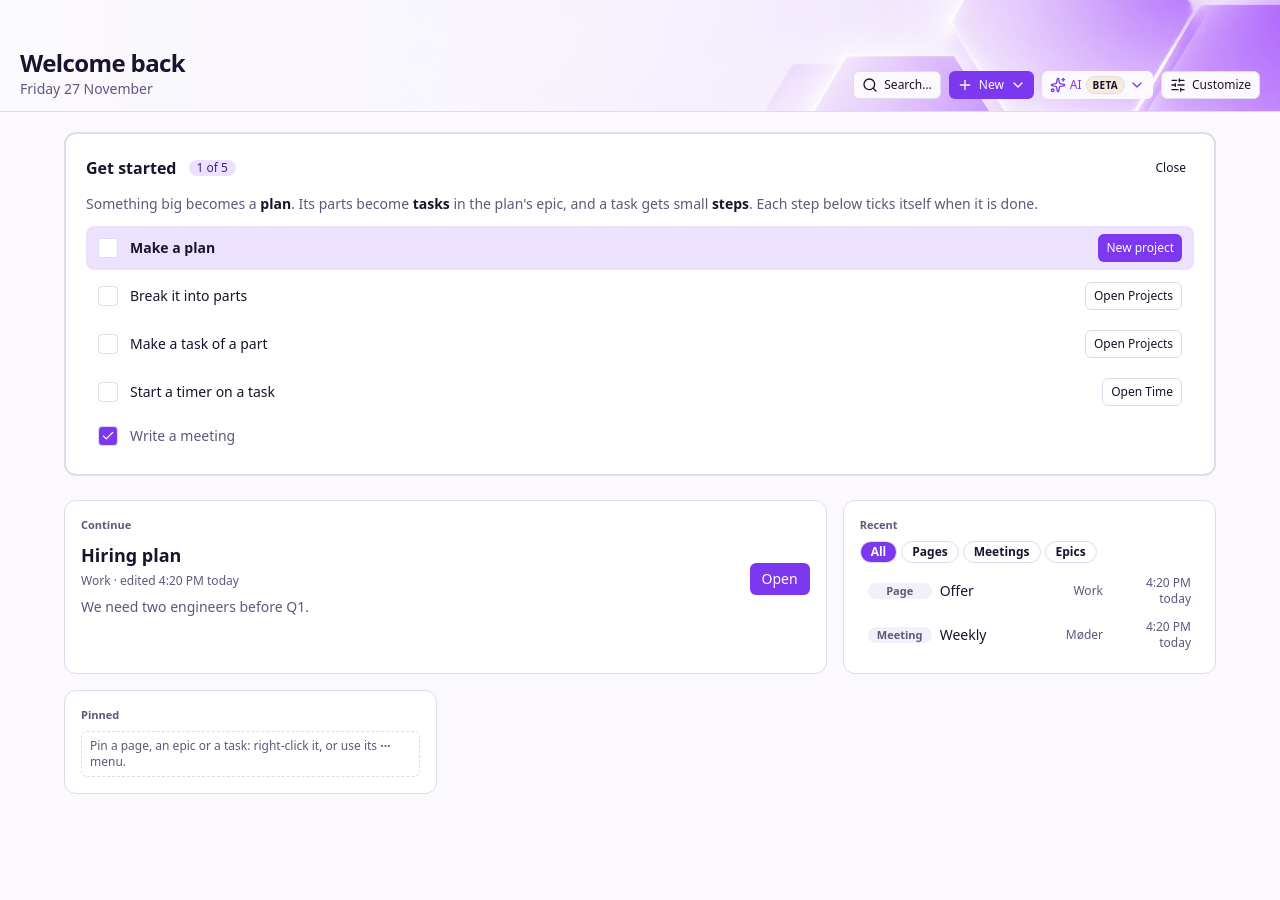
Test case: StartPage › filters the recent pages by what they are
This screenshot has width=1280, height=900.
Expected: the text "Meeting" is shown, x1=868 y1=627 x2=932 y2=643
Click the button "Meetings": (1002,552) x1=963 y1=541 x2=1040 y2=563
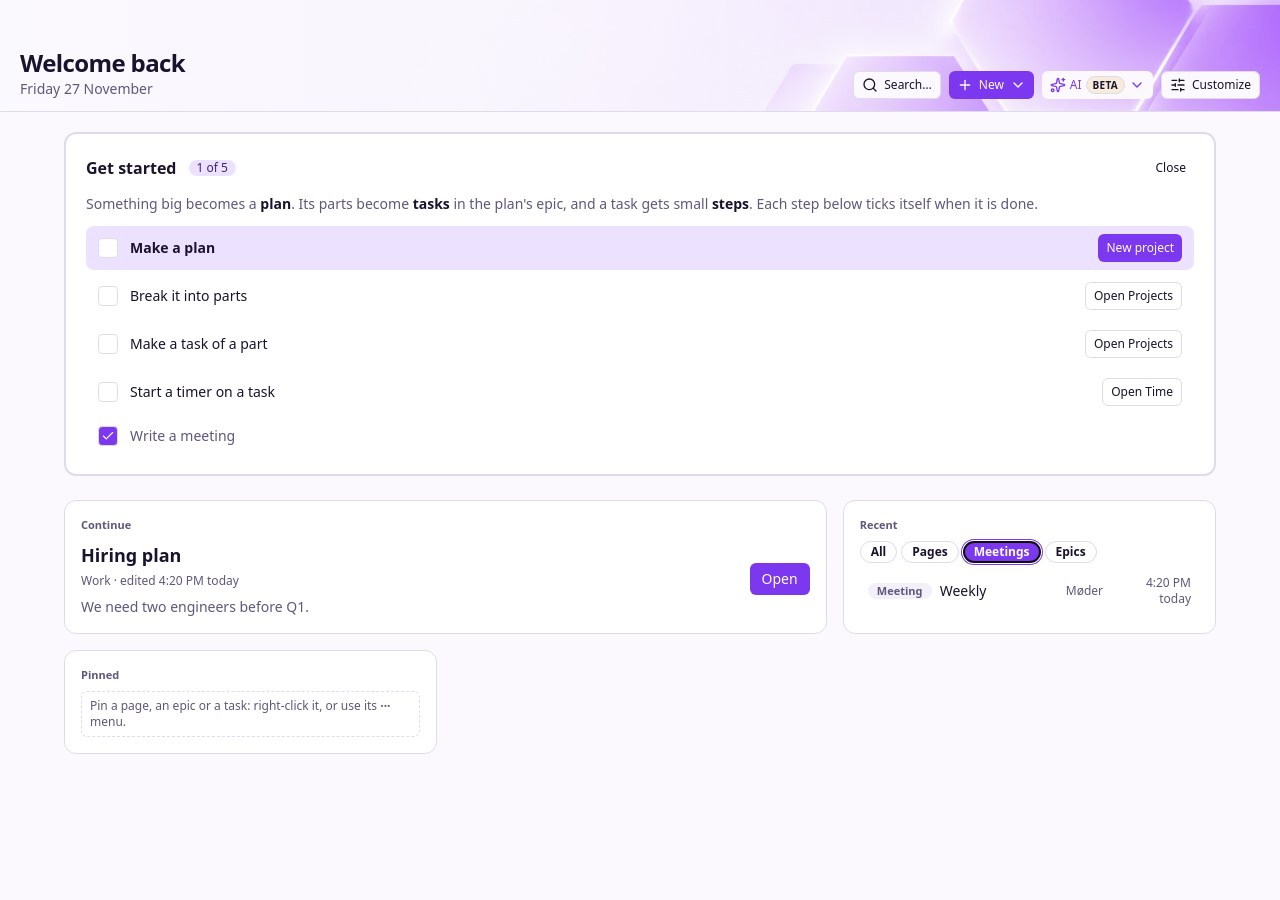
Expected: the button "Meeting Weekly Møder 4:20 PM today" is shown, x1=860 y1=569 x2=1199 y2=613
Result: the button "Offer" is gone
